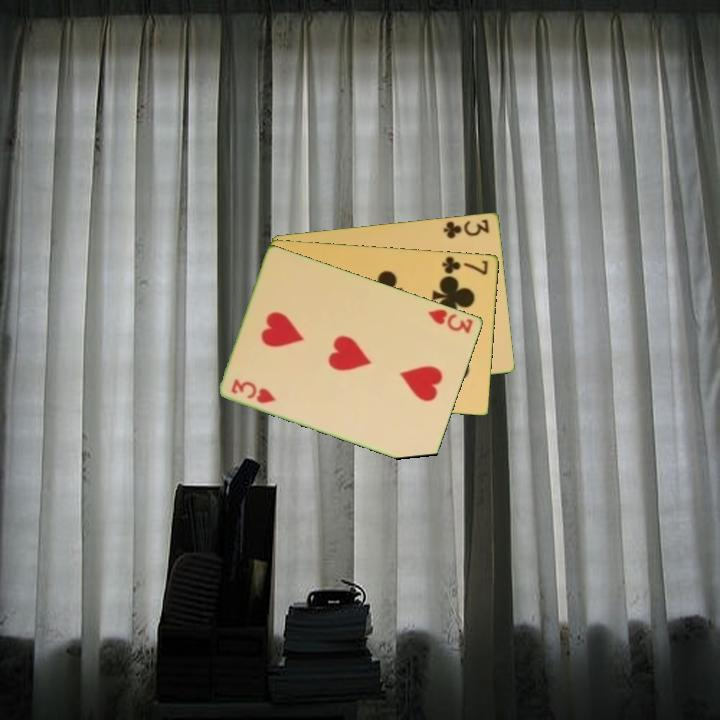3c: (440, 215, 492, 241)
3h: (425, 305, 476, 337), (228, 375, 279, 406)
7c: (439, 252, 491, 278)
